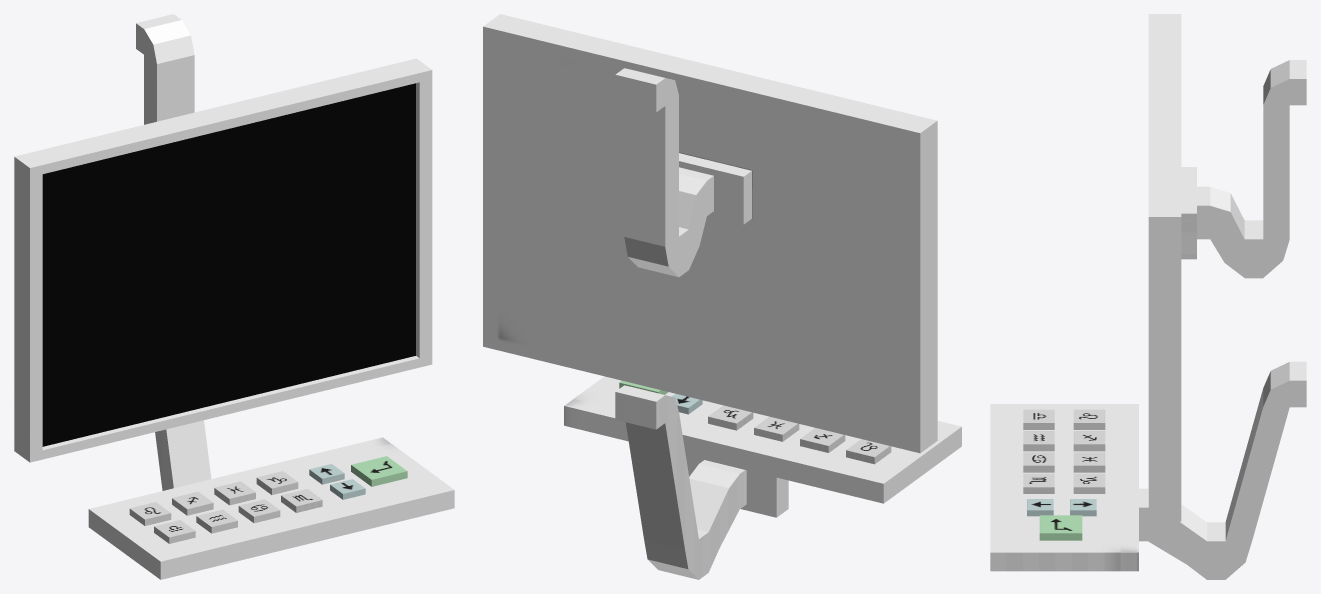
Rendered from TaskItem_Computer.fbx.
3 views of the same model, side by side, from view 1: azimuth 30°, elevation 25°; view 2: azimuth 150°, elevation 25°; view 3: azimuth 270°, elevation 25° (orthographic). The views are drawn at different scales.
Parts seen in each view (by area): view 1: Cube, Cube.001, Cube.012, Cube.014, Cube.013; view 2: Cube, Cube.001, Cube.012; view 3: Cube.001, Cube, Cube.012, Cube.014, Cube.013.
Boxes of the visible parts, left/top/right/bottom form: Cube: left=14, top=14, right=432, bottom=462; Cube.001: left=88, top=420, right=454, bottom=579; Cube.012: left=129, top=471, right=322, bottom=543; Cube.014: left=351, top=456, right=407, bottom=486; Cube.013: left=309, top=464, right=365, bottom=499; Cube: left=483, top=14, right=937, bottom=453; Cube.001: left=564, top=376, right=961, bottom=579; Cube.012: left=708, top=405, right=891, bottom=464; Cube.001: left=990, top=361, right=1306, bottom=579; Cube: left=1148, top=14, right=1306, bottom=521; Cube.012: left=1023, top=409, right=1105, bottom=493; Cube.014: left=1039, top=515, right=1082, bottom=540; Cube.013: left=1027, top=499, right=1096, bottom=516.
Bounding box in the file's own units: 333 × 383 × 219.
